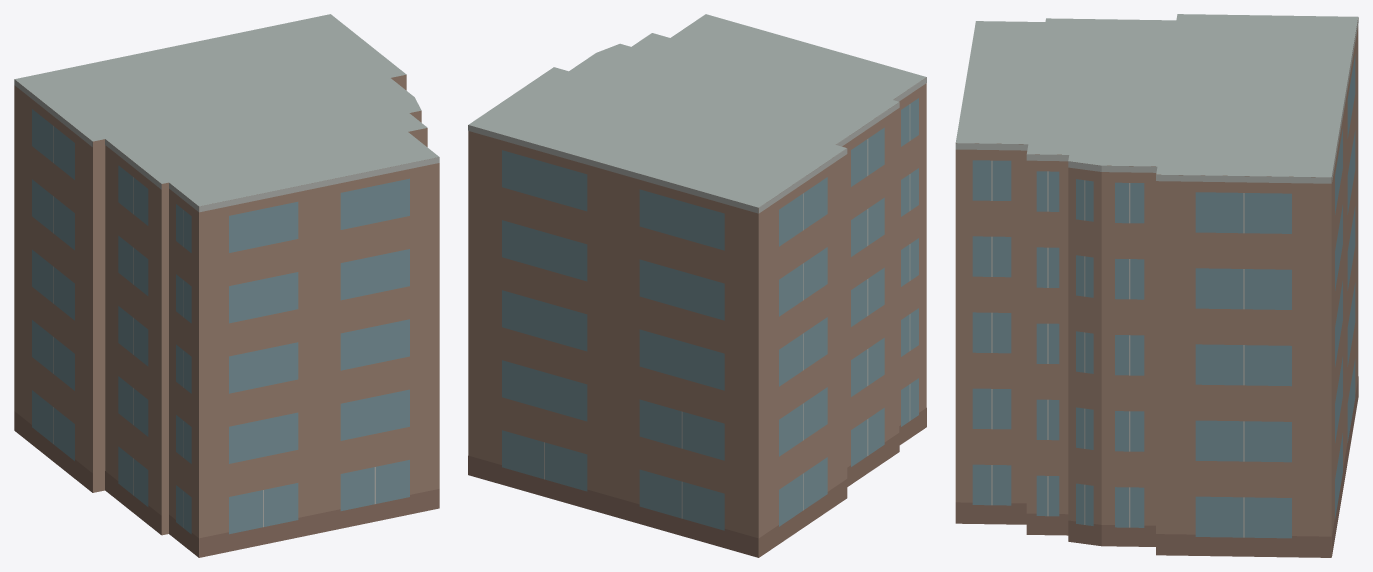
The model's file is survey-upis-33012397.glb.
3 views of the same model, side by side, from view 1: azimuth 30°, elevation 25°; view 2: azimuth 150°, elevation 25°; view 3: azimuth 270°, elevation 25° (orthographic). The views are drawn at different scales.
Visible parts, largest first — view 1: survey-upis-33012397.tmp; view 2: survey-upis-33012397.tmp; view 3: survey-upis-33012397.tmp.
Part boxes in pixels (<box>): survey-upis-33012397.tmp: <box>14,14,439,557</box>; survey-upis-33012397.tmp: <box>468,14,926,557</box>; survey-upis-33012397.tmp: <box>955,14,1358,557</box>.
Size of the model in its own units: 13.36 by 14.5 by 13.92.
